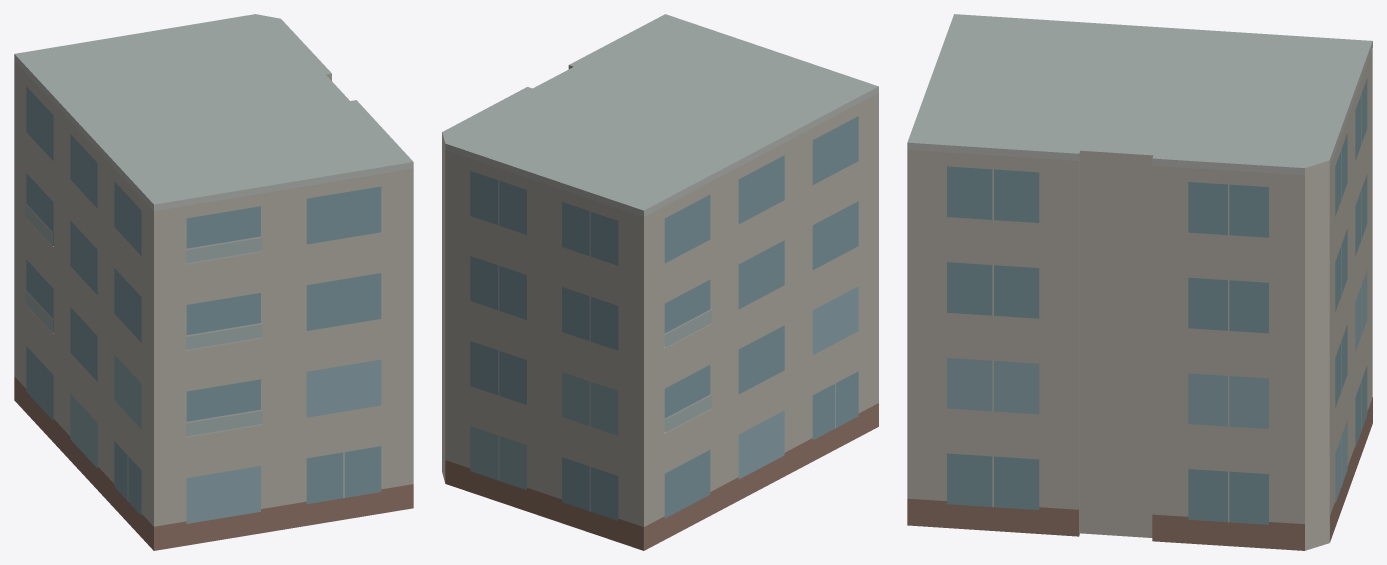
The model's file is survey-upis-32614783.glb.
The picture shows the model from 3 angles, left to right: view 1: azimuth 30°, elevation 25°; view 2: azimuth 150°, elevation 25°; view 3: azimuth 270°, elevation 25°; orthographic projection. The views are drawn at different scales.
Visible parts, largest first — view 1: survey-upis-32614783.tmp; view 2: survey-upis-32614783.tmp; view 3: survey-upis-32614783.tmp.
Part boxes in pixels (<box>): survey-upis-32614783.tmp: <box>14,14,413,550</box>; survey-upis-32614783.tmp: <box>442,14,878,550</box>; survey-upis-32614783.tmp: <box>907,14,1372,550</box>.
Size of the model in its own units: 11.15 by 12.9 by 14.23.
